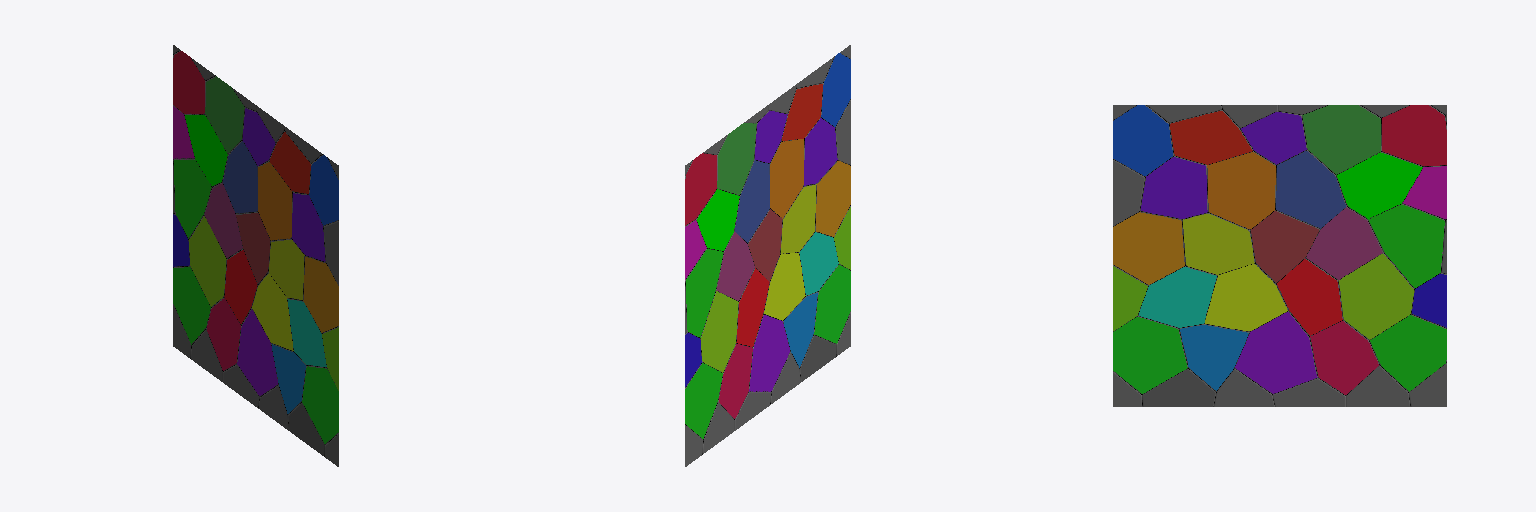
The picture shows the model from 3 angles: view 1: azimuth 30°, elevation 25°; view 2: azimuth 150°, elevation 25°; view 3: azimuth 270°, elevation 25°; orthographic projection.
Visible parts, largest first — view 1: Plane; view 2: Plane; view 3: Plane.
Boxes of the visible parts, x1,y1,x2,y2 form: Plane: [173, 45, 338, 466]; Plane: [685, 45, 850, 466]; Plane: [1113, 105, 1446, 406].
Size of the model in its own units: 0 by 1.21 by 1.21.
1 materials, 1 textured.